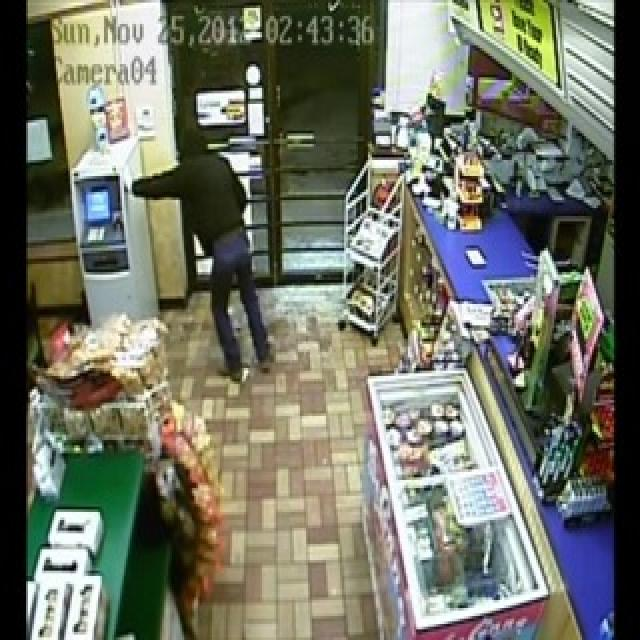thief: (150, 128, 282, 377)
